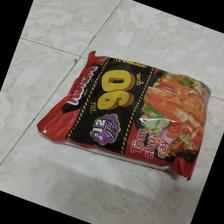Kokomi: (35, 52, 212, 178)
